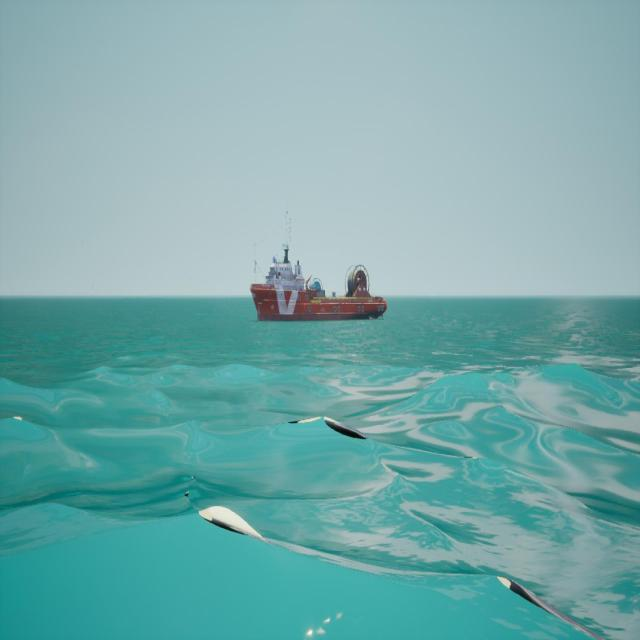tug boat: (249, 212, 387, 327)
